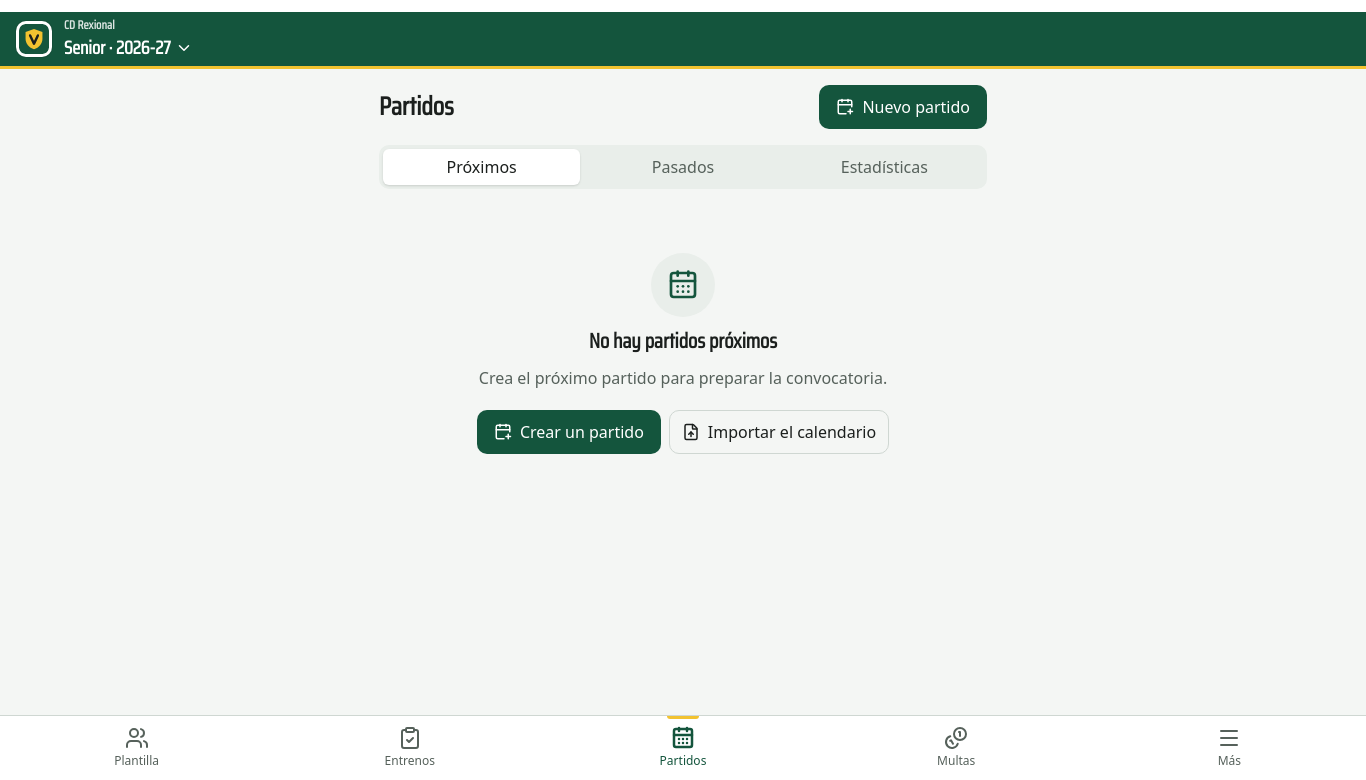
it: lista de partidos › sin partidos invita a crear el próximo solo a quien puede
Check: the heading "No hay partidos próximos" is shown, box left=589, top=329, right=777, bottom=354
Check: the button "Crear un partido" is shown, box left=477, top=410, right=661, bottom=454
Click the button "Pasados": (683, 167) left=584, top=149, right=782, bottom=185
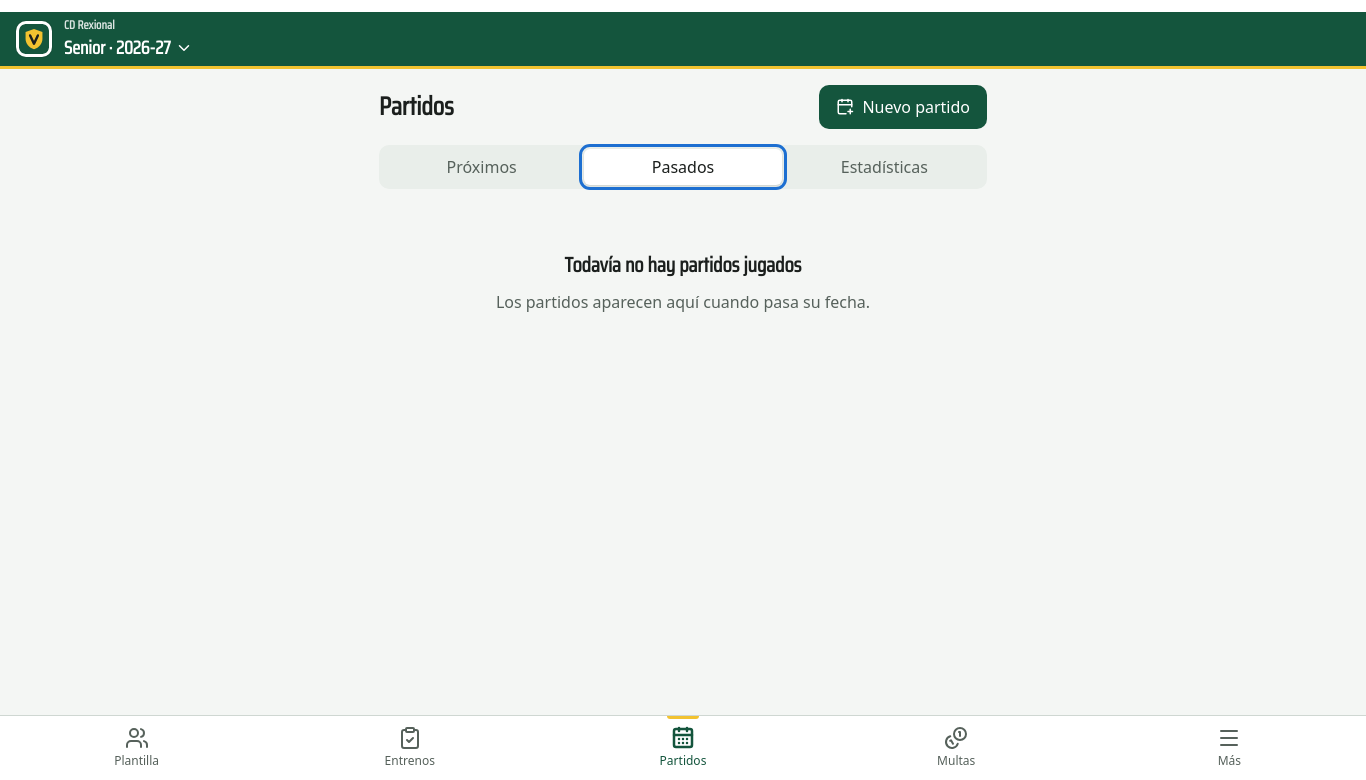
Check: the heading "Todavía no hay partidos jugados" is shown, box left=564, top=253, right=802, bottom=278
